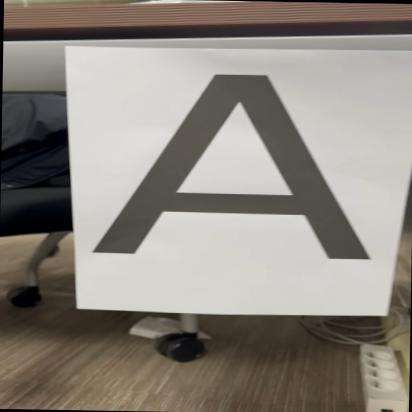seat: (77, 54, 396, 268)
